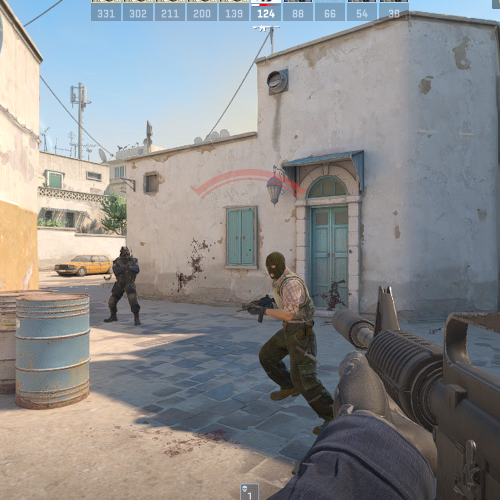ct_body: (106, 245, 142, 325)
ct_head: (120, 245, 131, 260)
t_body: (256, 251, 335, 433)
t_head: (264, 251, 286, 280)
